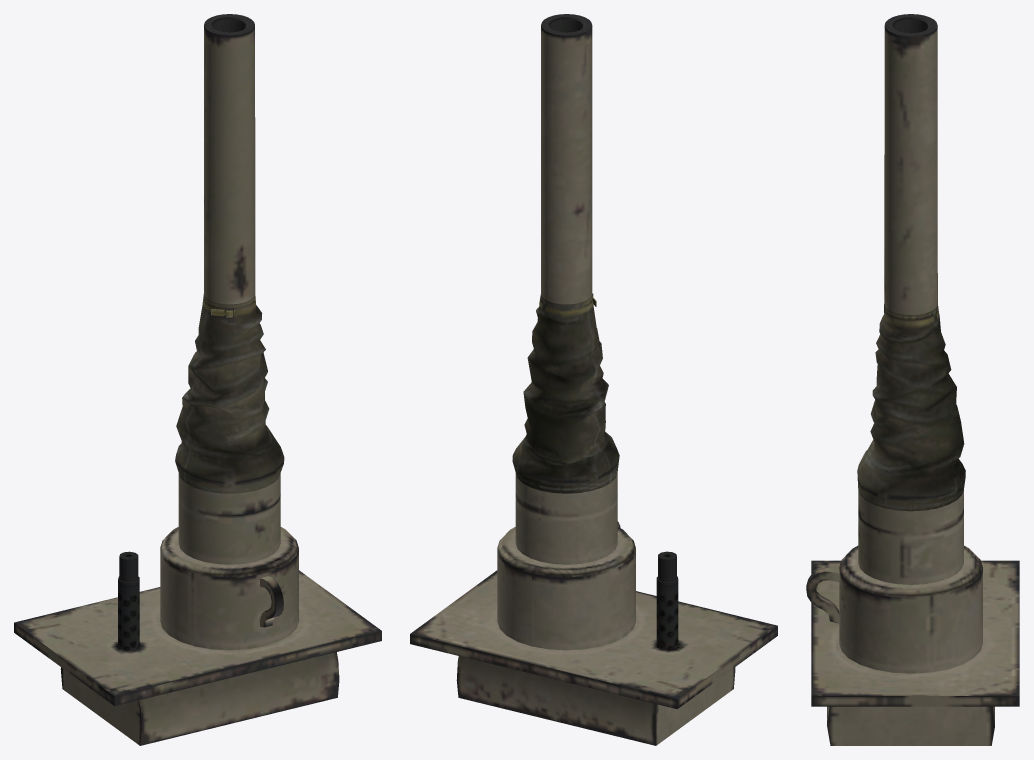
File: Gun_01.glb
The picture shows the model from 3 angles, left to right: view 1: azimuth 30°, elevation 25°; view 2: azimuth 150°, elevation 25°; view 3: azimuth 270°, elevation 25°; orthographic projection. The views are drawn at different scales.
Visible parts, largest first — view 1: set_0_group_0; view 2: set_0_group_0; view 3: set_0_group_0.
Part boxes in pixels (box(x1,y1,x2,y2)): set_0_group_0: box(14, 14, 381, 745); set_0_group_0: box(410, 14, 777, 745); set_0_group_0: box(806, 14, 1019, 745).
Bounding box in the file's own units: 0.69 × 1.63 × 0.4598.
1 material, 1 textured.
